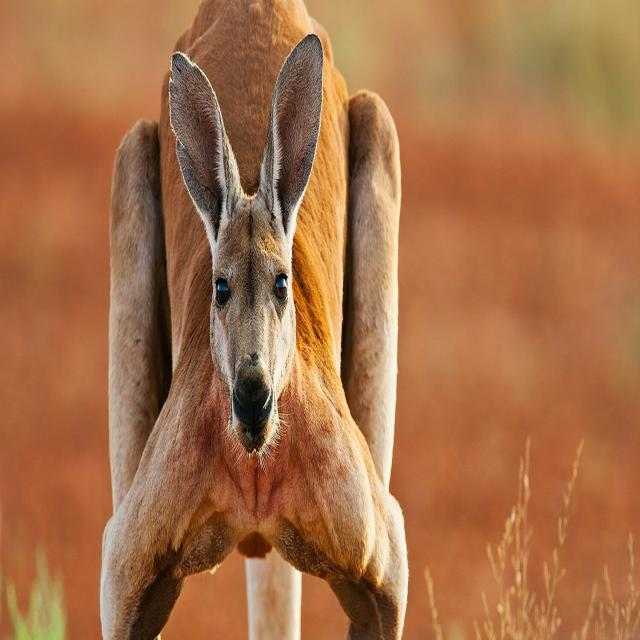Kangaroo: (72, 0, 424, 640)
